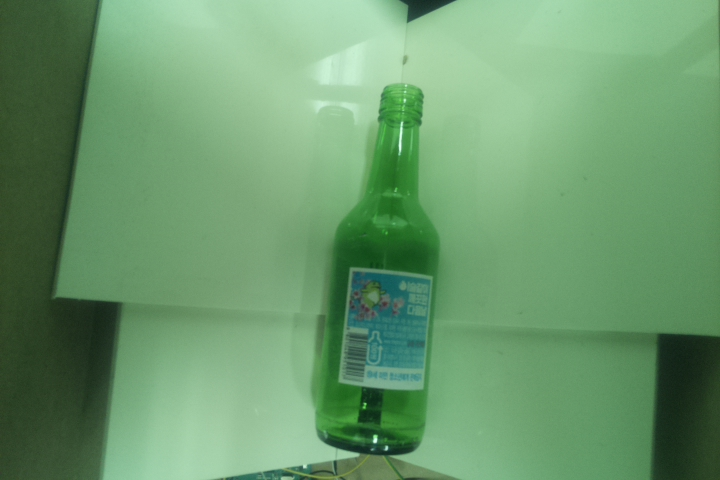soju: (309, 82, 438, 456)
